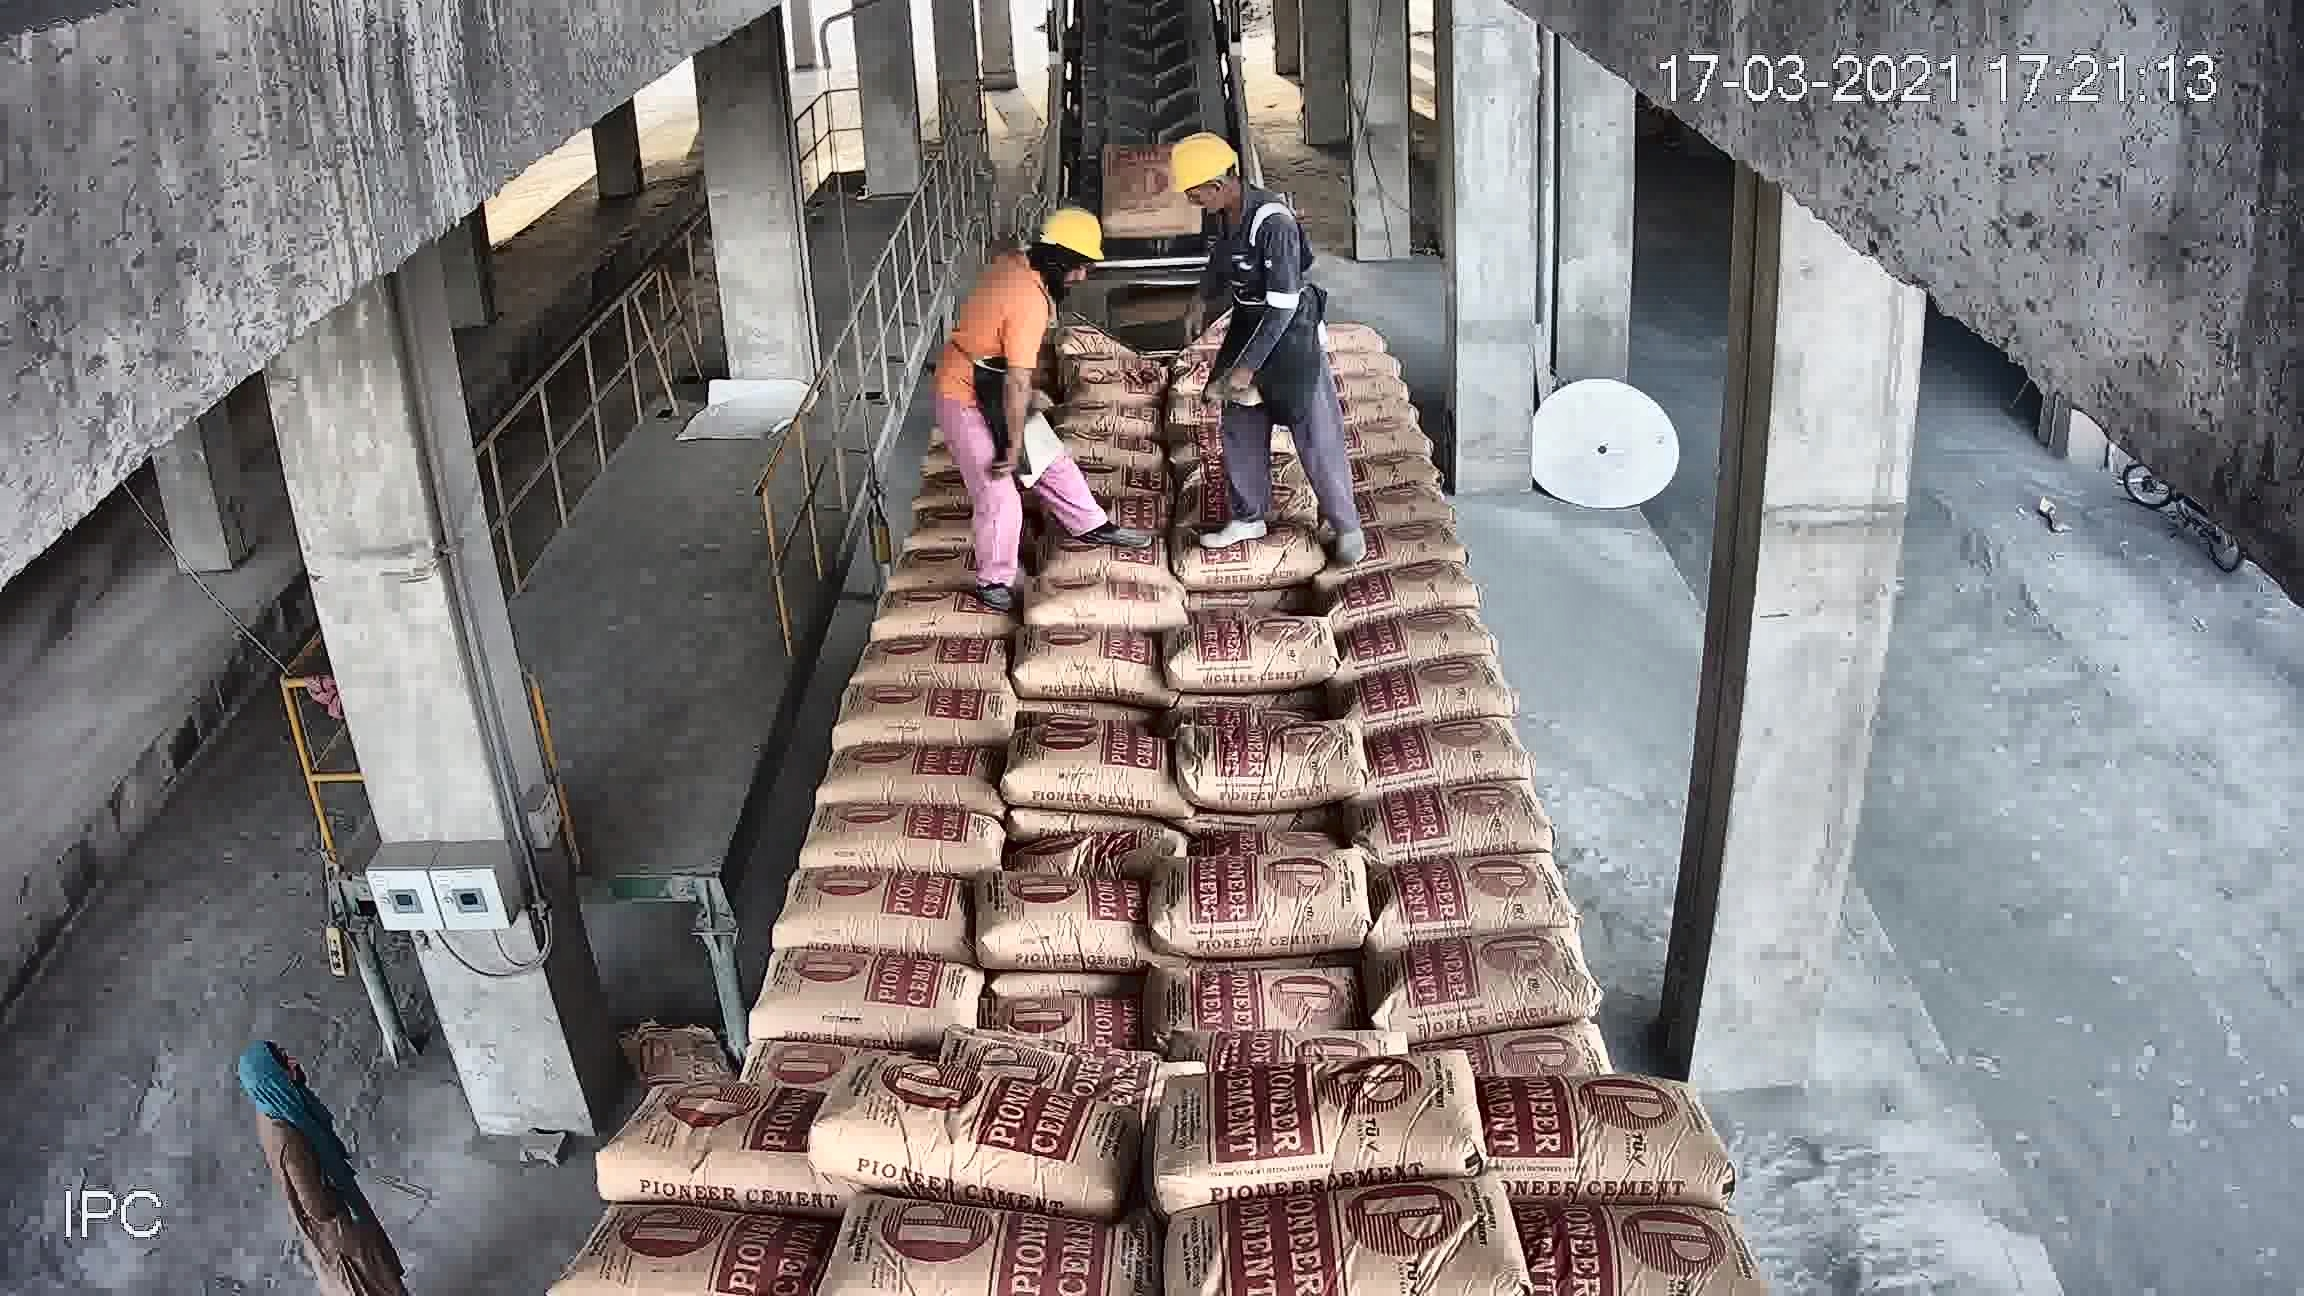bag_h: (1155, 1059, 1473, 1217), (817, 1060, 1171, 1199), (1133, 942, 1465, 1073), (1150, 824, 1427, 976), (1165, 1169, 1521, 1283), (1136, 717, 1408, 850), (834, 1199, 1188, 1296), (1481, 1076, 1726, 1211), (883, 951, 1122, 1084), (1459, 956, 1684, 1097), (886, 851, 1165, 961), (1410, 842, 1636, 972), (623, 962, 859, 1078), (601, 1082, 809, 1212), (1459, 1190, 1796, 1269), (1378, 756, 1601, 867), (687, 864, 877, 976), (535, 1215, 813, 1290), (897, 763, 1130, 839), (688, 801, 894, 885), (1383, 641, 1510, 731), (1003, 623, 1161, 688), (756, 744, 923, 798), (1378, 709, 1514, 772), (1025, 578, 1184, 625), (1025, 676, 1184, 722), (1389, 593, 1483, 668), (1166, 555, 1268, 619), (1150, 619, 1237, 688)
belt: (1024, 19, 1283, 487)
